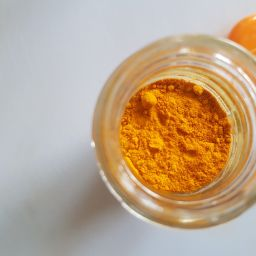Turmeric dried: (133, 81, 232, 193), (154, 101, 217, 173)
